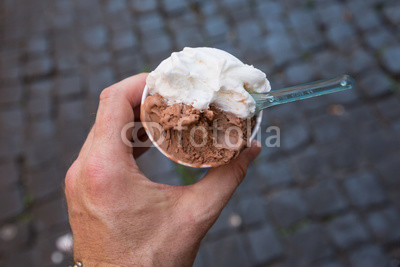ice-cream: (149, 48, 266, 119), (143, 96, 256, 165)
